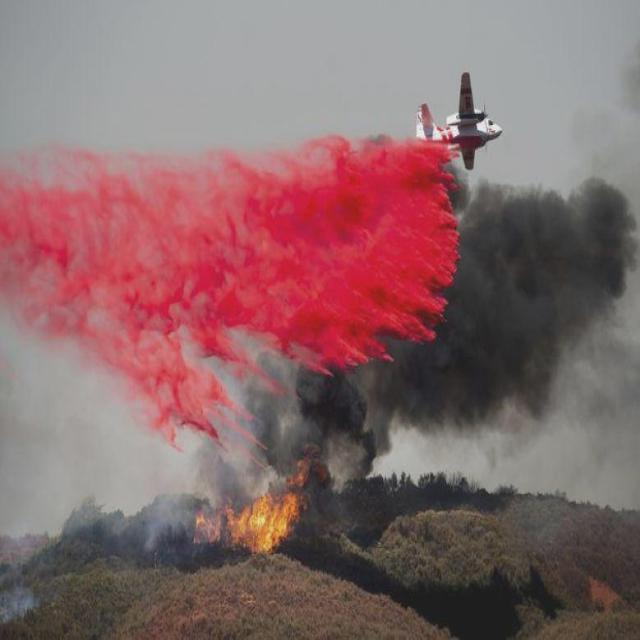Fire: (185, 471, 294, 559)
